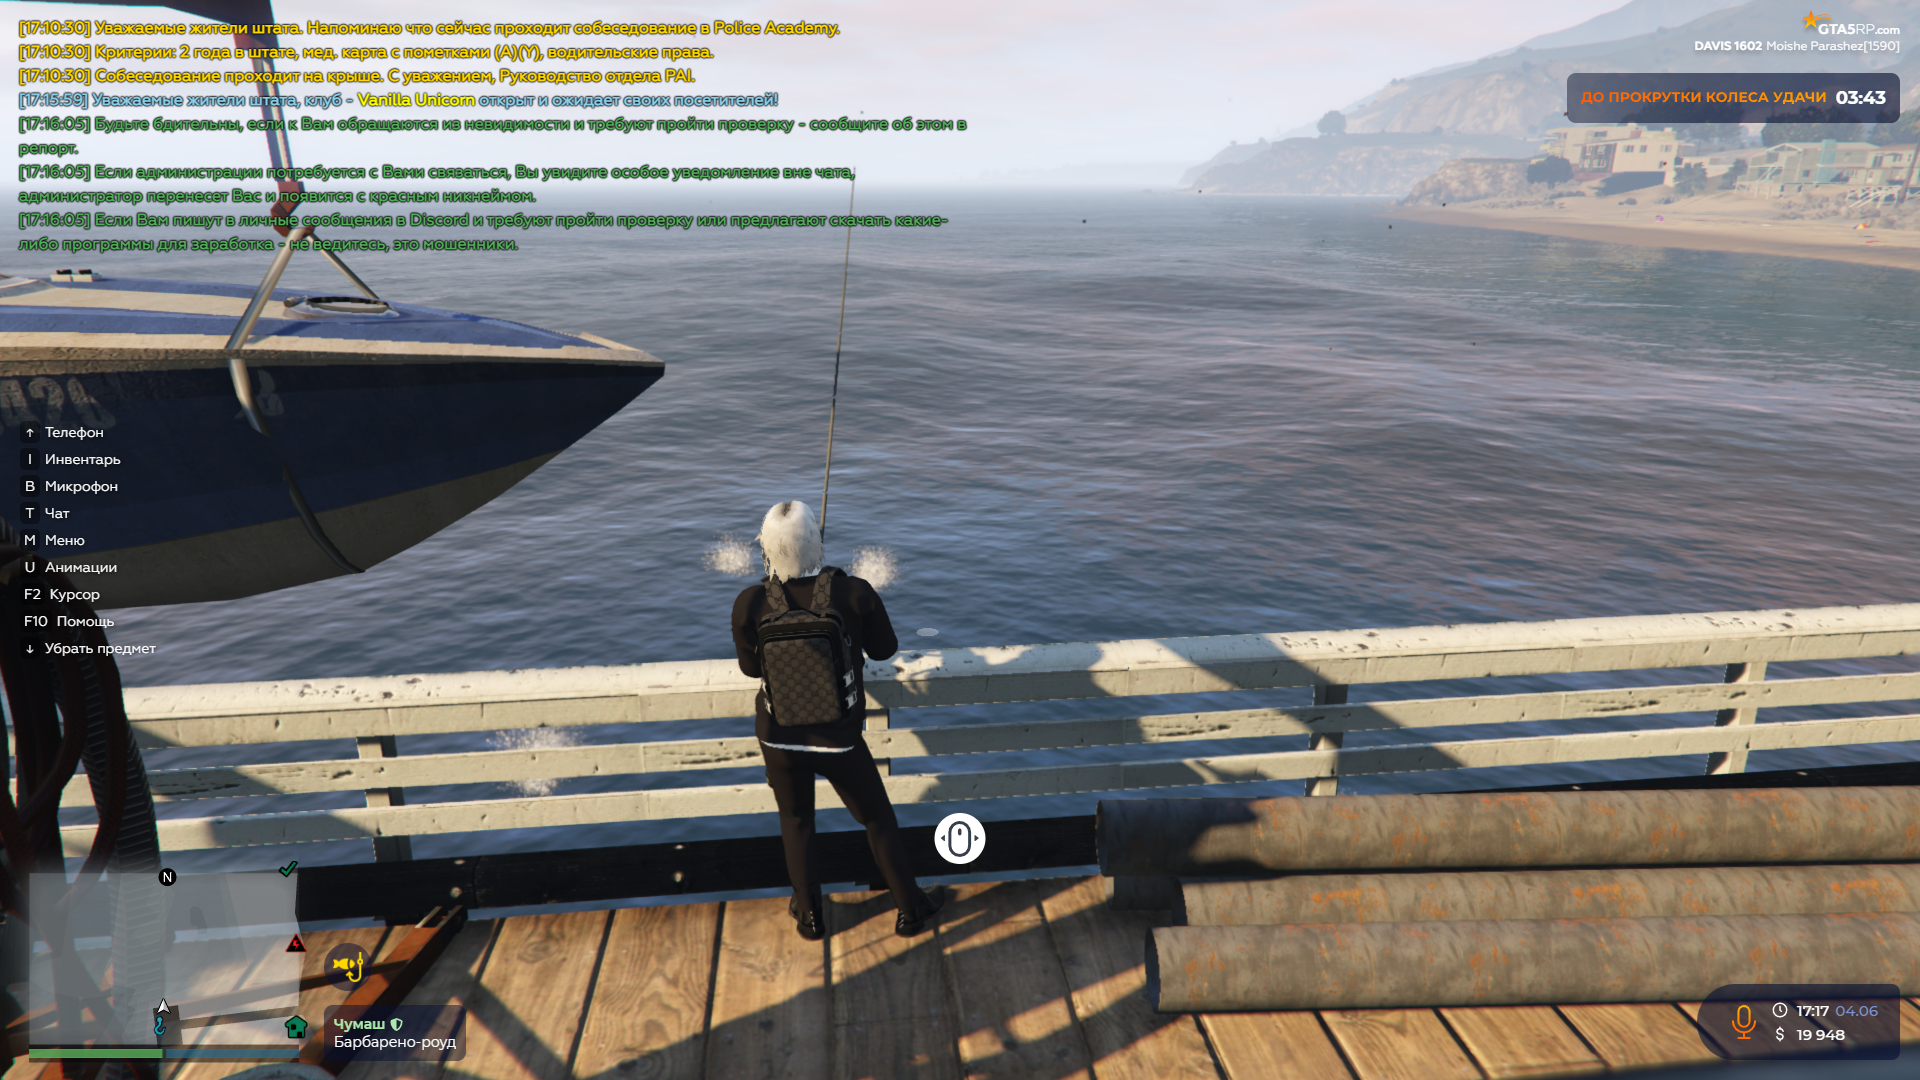circle: (916, 626, 940, 637)
